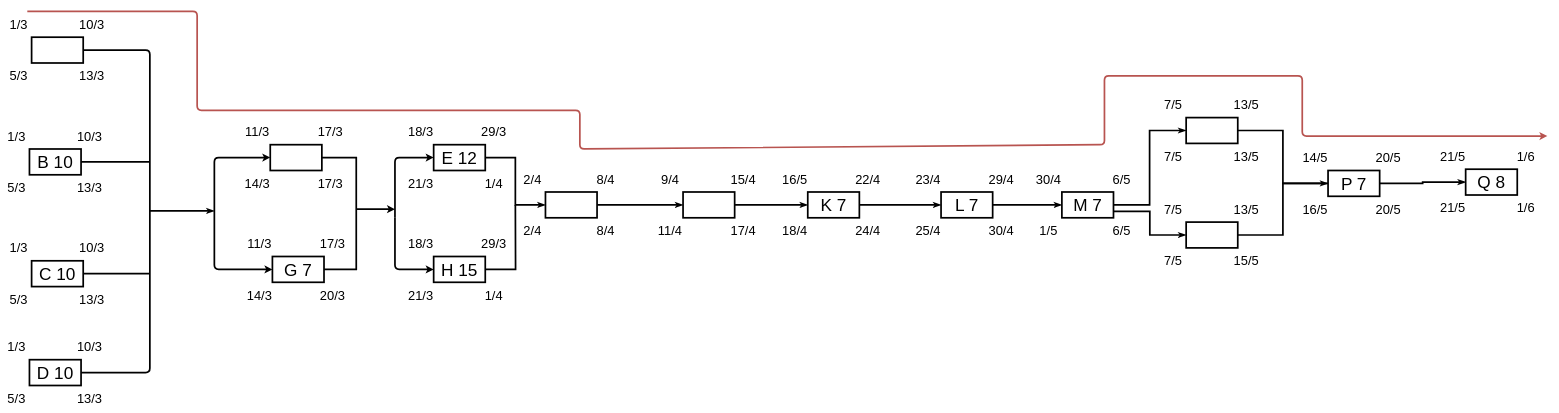
This 1559x413 diagram has some shape labels left out. The shapes that lost their labels are listed below. From the top down, each one's centre as x and y in pixels, then its label:
point 57,50: A 10
point 1211,130: N 7
point 295,157: F 7
point 571,204: i 7
point 708,204: J 7
point 1211,235: O 7
